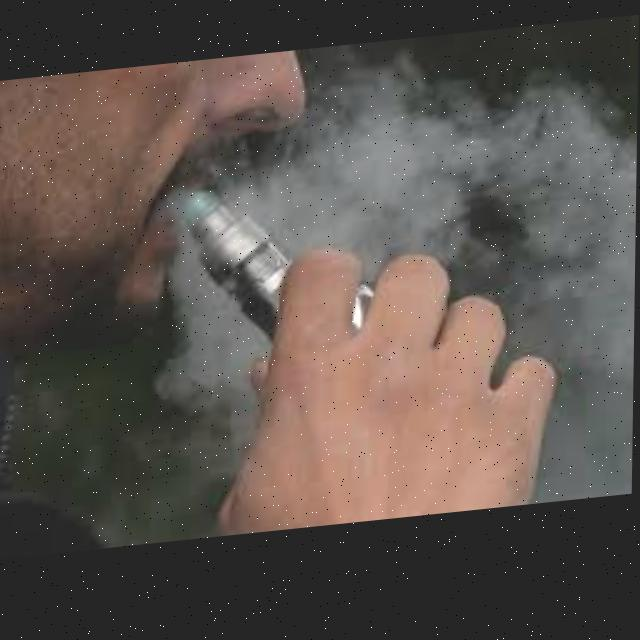vape: (179, 172, 292, 355)
